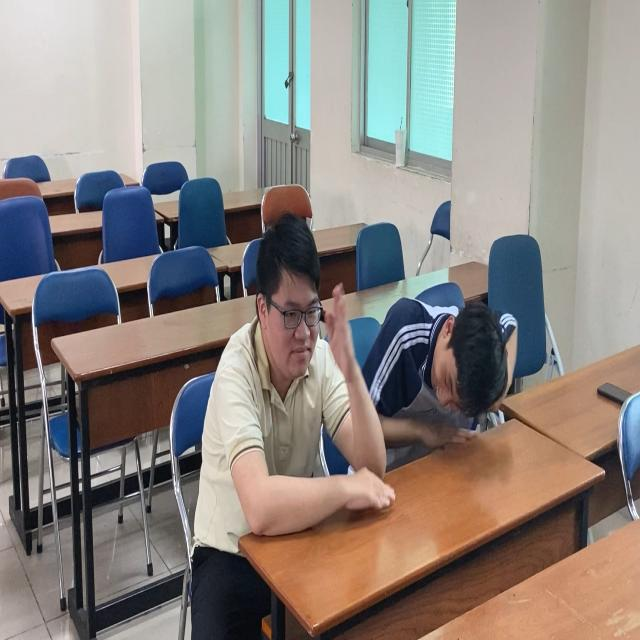raise_hand: (232, 202, 386, 561)
